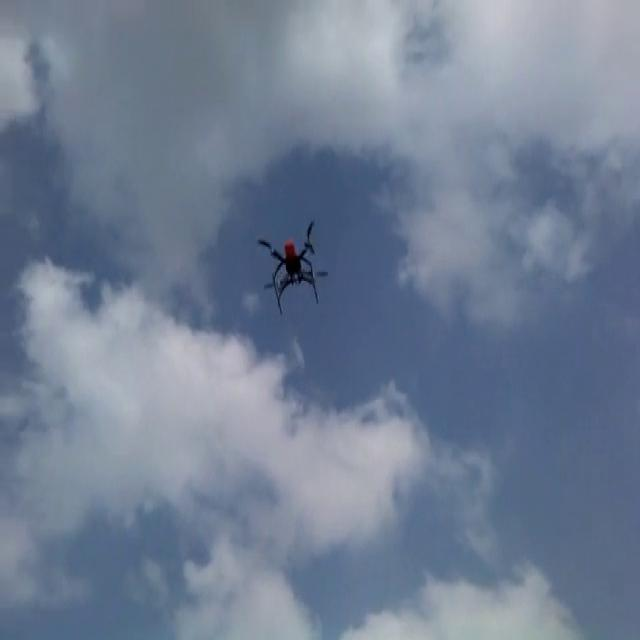drone: (257, 217, 327, 313)
